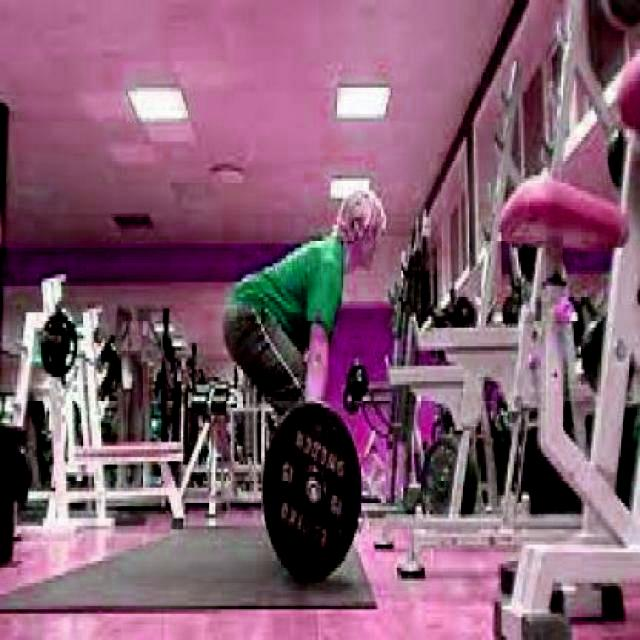barbell: (261, 397, 369, 590)
